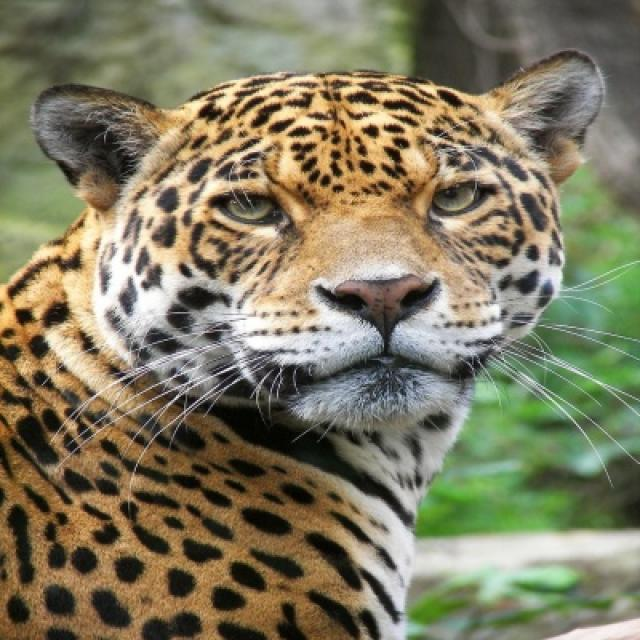Jaguar: (0, 50, 606, 638)
